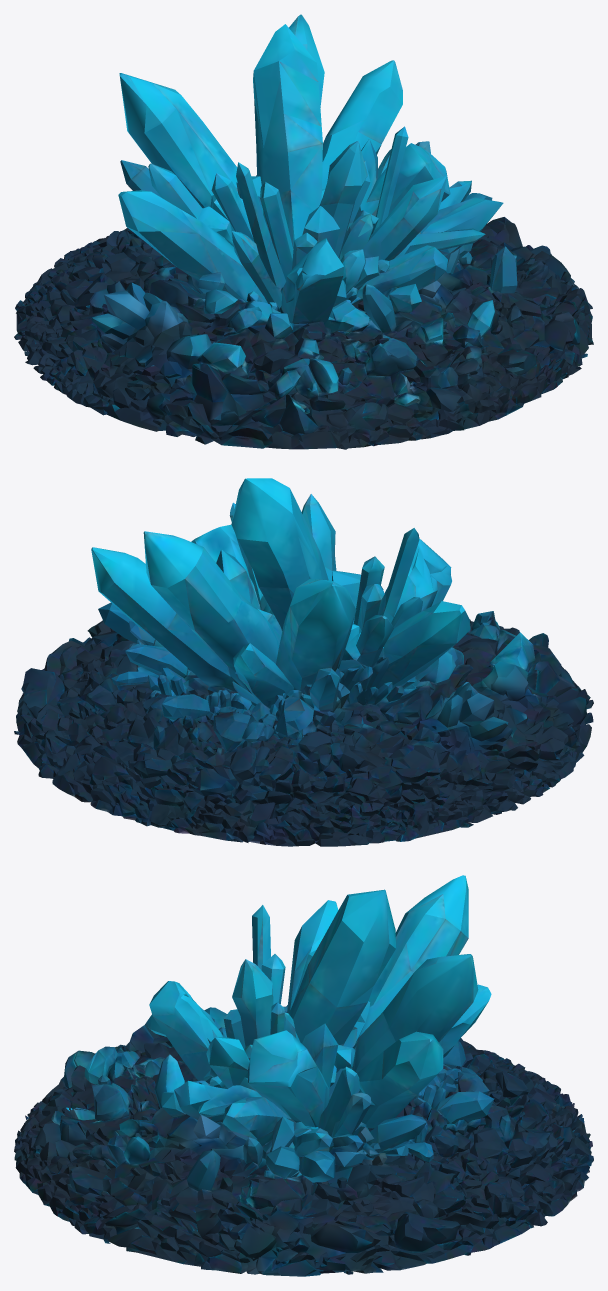
Rendered from mx_wz_crystal.glb.
3 views of the same model, one above another, from view 1: azimuth 30°, elevation 25°; view 2: azimuth 150°, elevation 25°; view 3: azimuth 270°, elevation 25° (orthographic).
Size of the model in its own units: 1.9 by 0.9789 by 1.88.
Materials: 1 (1 with a texture image).
